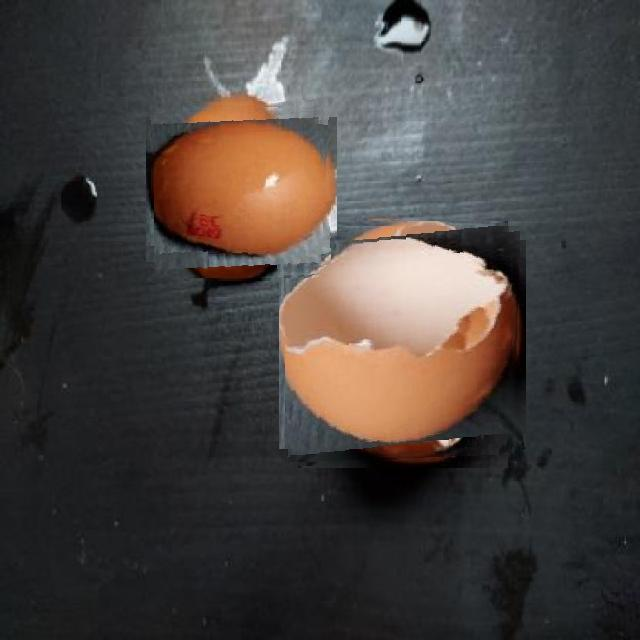biodegradable: (285, 226, 521, 463), (154, 102, 329, 278)
